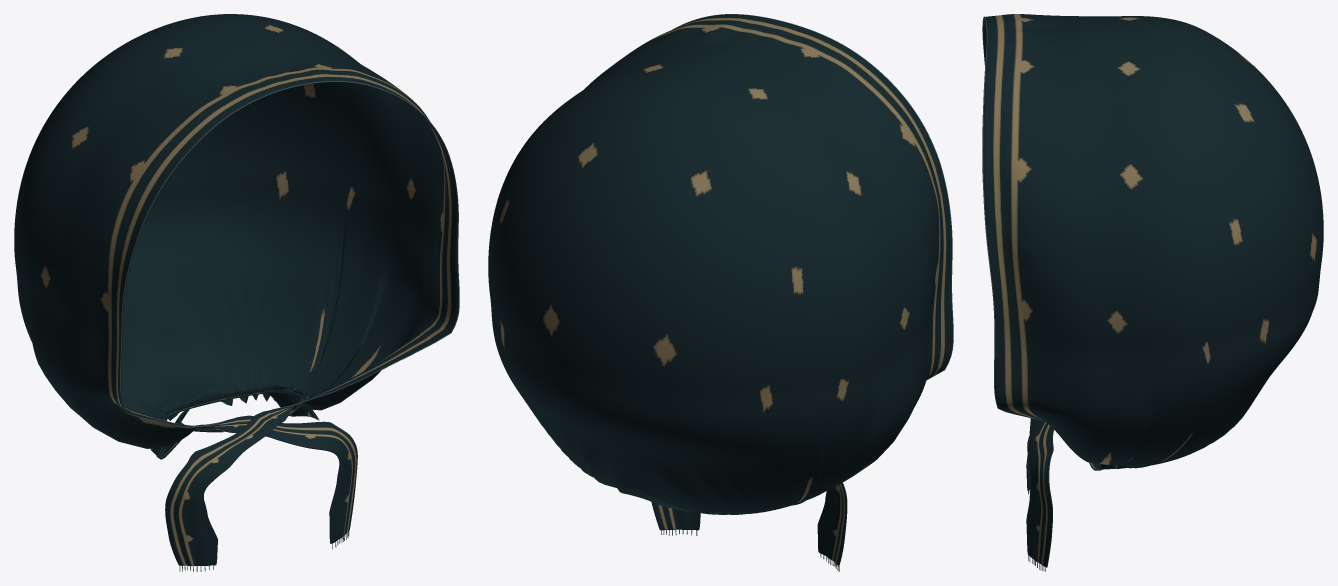
The model's file is Masculine-Masculine-middle-part-sweatshirt-pashmina250-headgear-7a521b6c.glb.
The picture shows the model from 3 angles, left to right: view 1: azimuth 30°, elevation 25°; view 2: azimuth 150°, elevation 25°; view 3: azimuth 270°, elevation 25°; orthographic projection. The views are drawn at different scales.
Visible parts, largest first — view 1: 226 headgear / Headwear / continuous woven pashmina239, 226 headgear / Headwear / face edge239; view 2: 226 headgear / Headwear / continuous woven pashmina239, 226 headgear / Headwear / face edge239; view 3: 226 headgear / Headwear / continuous woven pashmina239, 226 headgear / Headwear / face edge239.
Boxes of the visible parts, bbox=[...] form: 226 headgear / Headwear / continuous woven pashmina239: bbox=[14, 14, 458, 566]; 226 headgear / Headwear / face edge239: bbox=[120, 81, 459, 427]; 226 headgear / Headwear / continuous woven pashmina239: bbox=[488, 14, 952, 566]; 226 headgear / Headwear / face edge239: bbox=[672, 14, 953, 379]; 226 headgear / Headwear / continuous woven pashmina239: bbox=[983, 14, 1323, 567]; 226 headgear / Headwear / face edge239: bbox=[982, 16, 1043, 420].
Bounding box in the file's own units: 1.1 × 1.41 × 0.882.
Materials: 3 (1 with a texture image).
